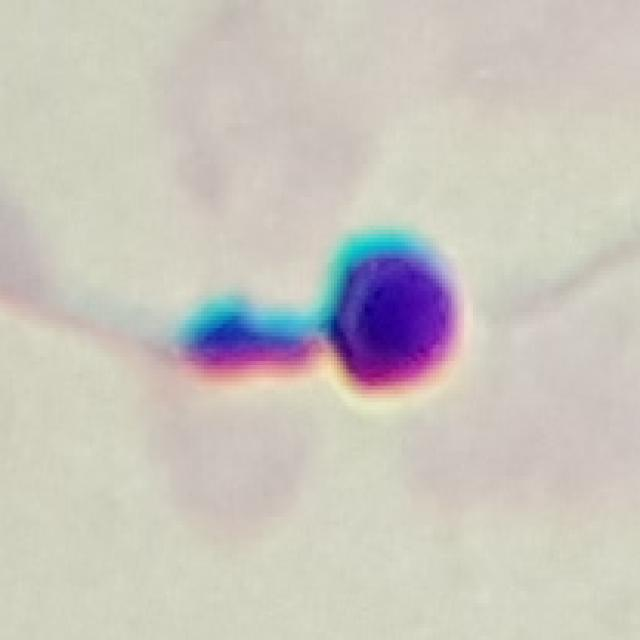abnormal sperm: (0, 229, 466, 405)
